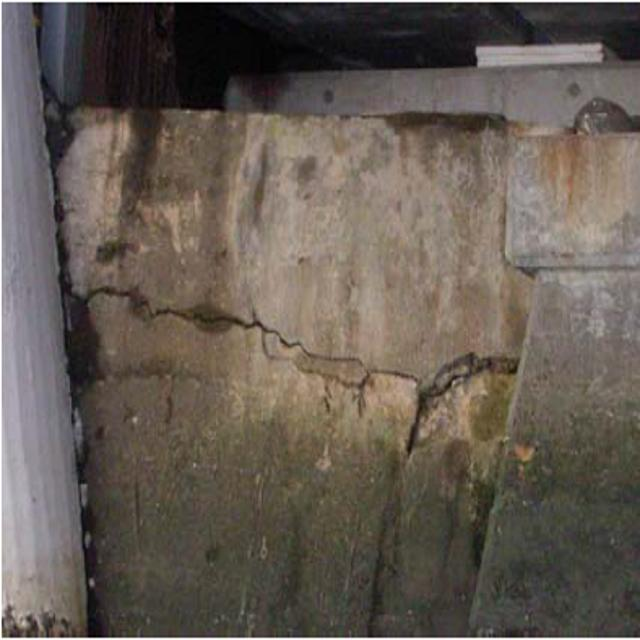crack: (70, 266, 514, 454)
